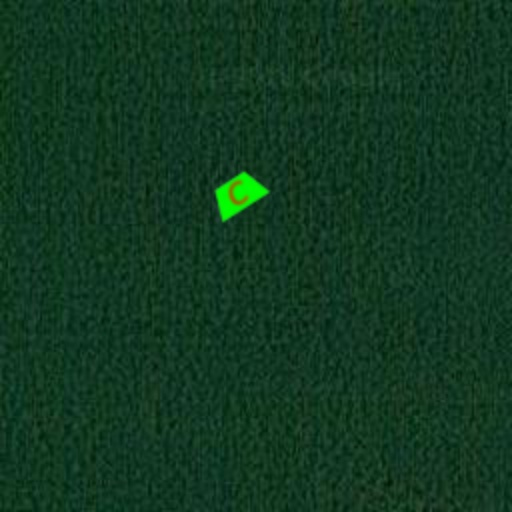trapezoid: (198, 154, 278, 234)
